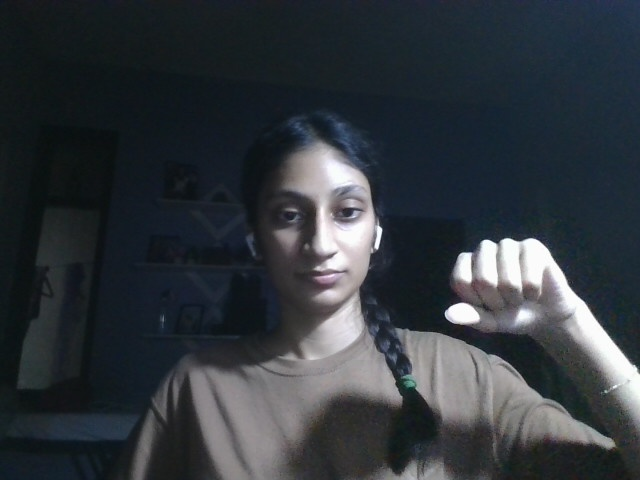yes: (442, 236, 584, 342)
